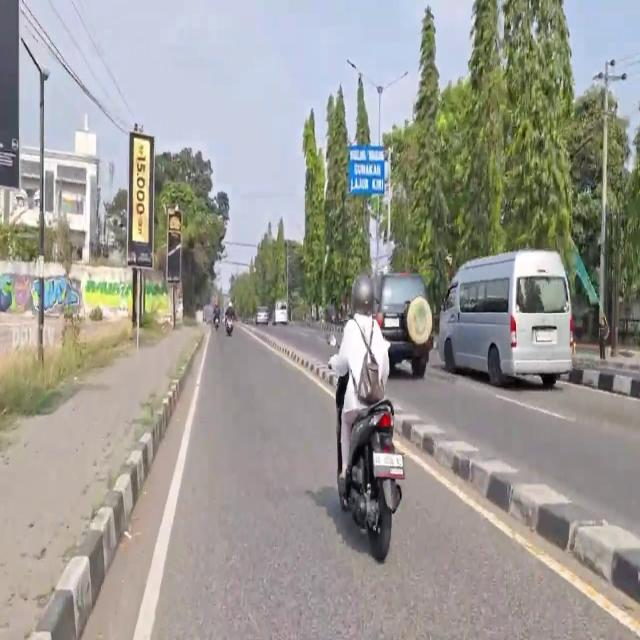WithHelmet: (327, 275, 391, 493), (225, 300, 235, 330)
